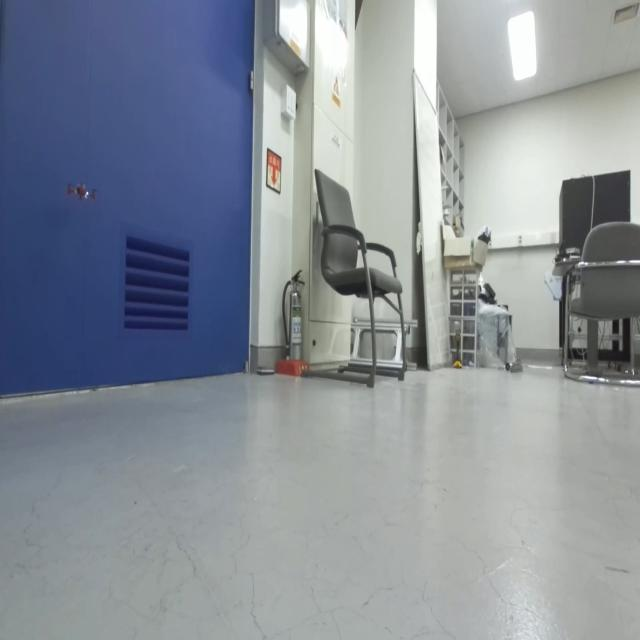crazyflie: (63, 174, 100, 212)
